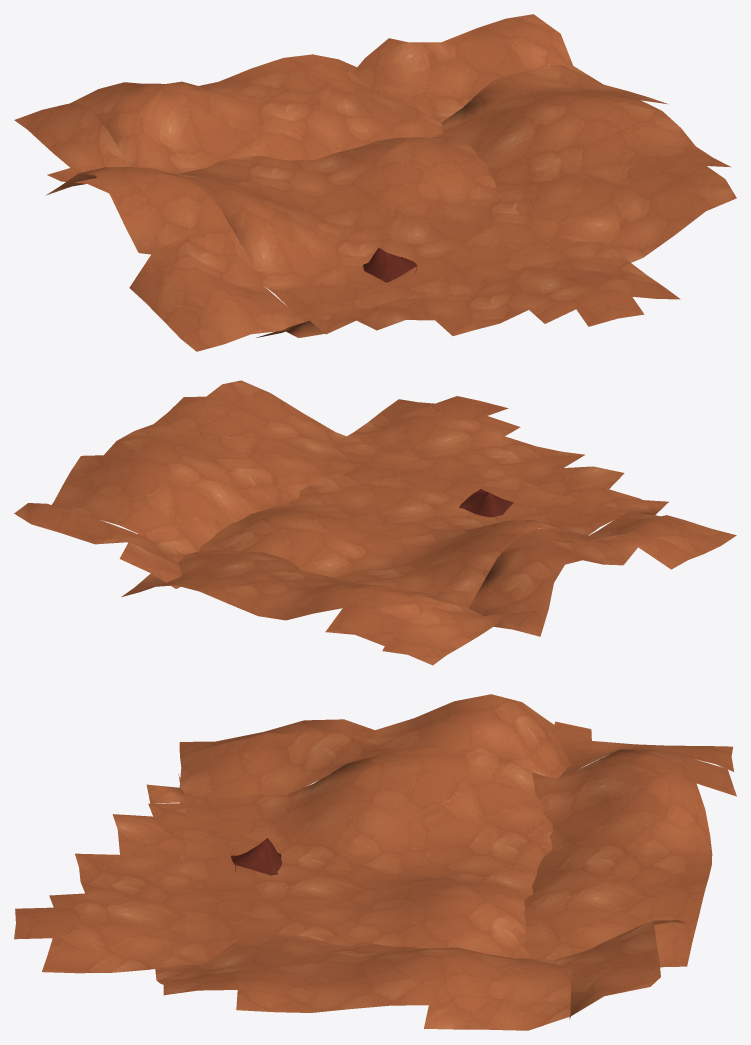
The model's file is woestijn.glb.
The picture shows the model from 3 angles, top to bottom: view 1: azimuth 30°, elevation 25°; view 2: azimuth 150°, elevation 25°; view 3: azimuth 270°, elevation 25°; orthographic projection. The views are drawn at different scales.
Parts seen in each view (by area): view 1: Plane003, Plane006, Plane004, Plane005, Plane001; view 2: Plane003, Plane006, Plane004, Plane005, Plane001; view 3: Plane003, Plane004, Plane006, Plane005, Plane001.
Part boxes in pixels (bbox=[...]): Plane003: bbox=[46, 132, 611, 351]; Plane006: bbox=[352, 14, 736, 262]; Plane004: bbox=[14, 54, 443, 192]; Plane005: bbox=[256, 248, 680, 337]; Plane001: bbox=[363, 247, 417, 282]; Plane003: bbox=[199, 440, 736, 636]; Plane006: bbox=[14, 380, 357, 588]; Plane004: bbox=[121, 549, 541, 665]; Plane005: bbox=[342, 396, 668, 515]; Plane001: bbox=[459, 489, 513, 517]; Plane003: bbox=[179, 694, 571, 964]; Plane004: bbox=[523, 721, 736, 967]; Plane006: bbox=[155, 920, 685, 1030]; Plane005: bbox=[14, 773, 187, 973]; Plane001: bbox=[231, 838, 281, 875].
Size of the model in its own units: 33.58 by 4.07 by 32.84.
Materials: 4 (2 with a texture image).
